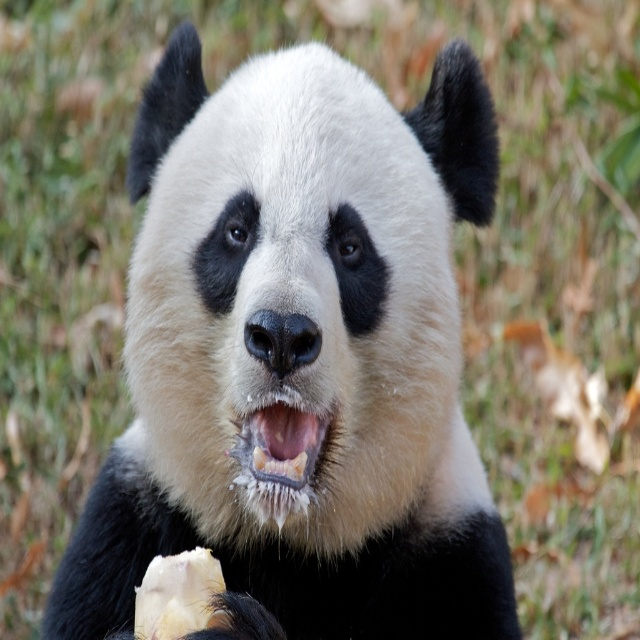Panda: (36, 22, 525, 639)
